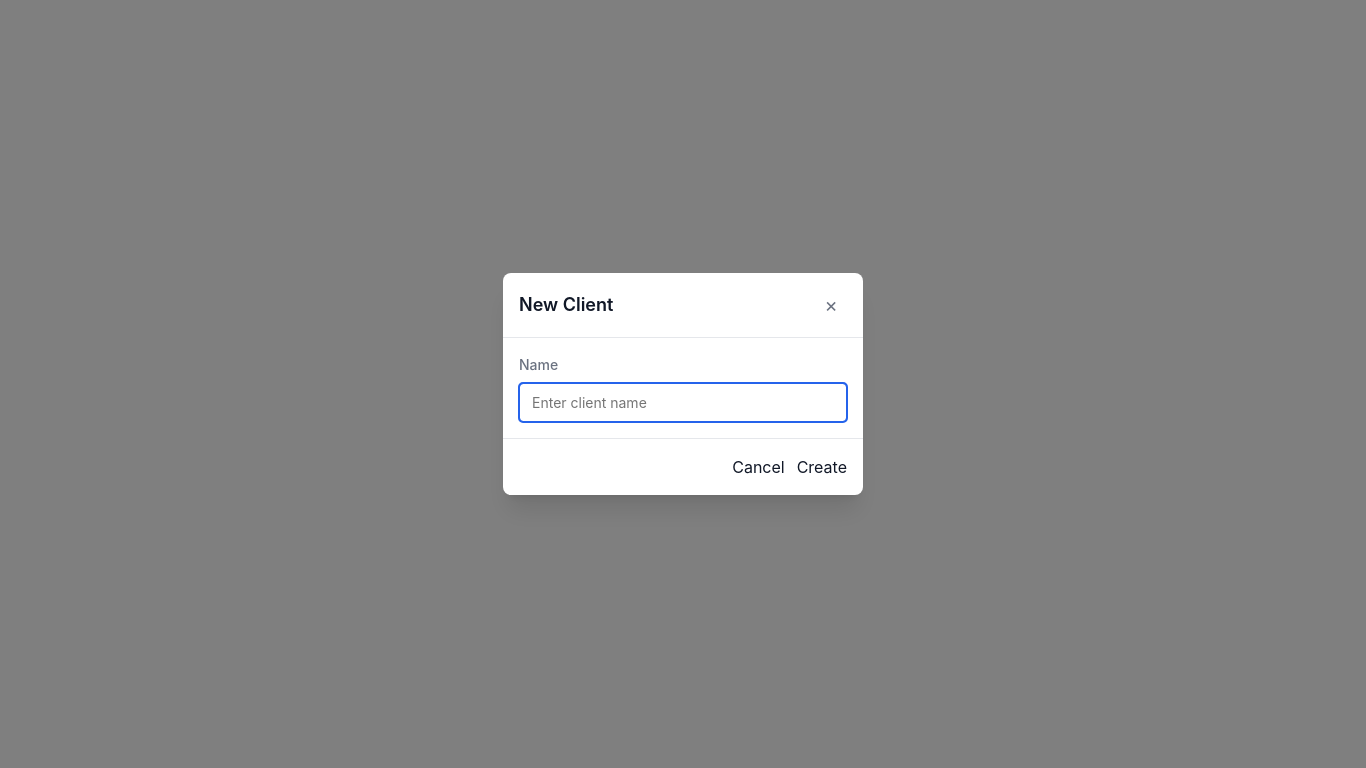
Scenario: CreateClientModal › shows "Creating..." on the button during submission
Type "Acme Corp" into the field with test id "create-client-name-input" at (683, 402), box [519, 383, 847, 422]
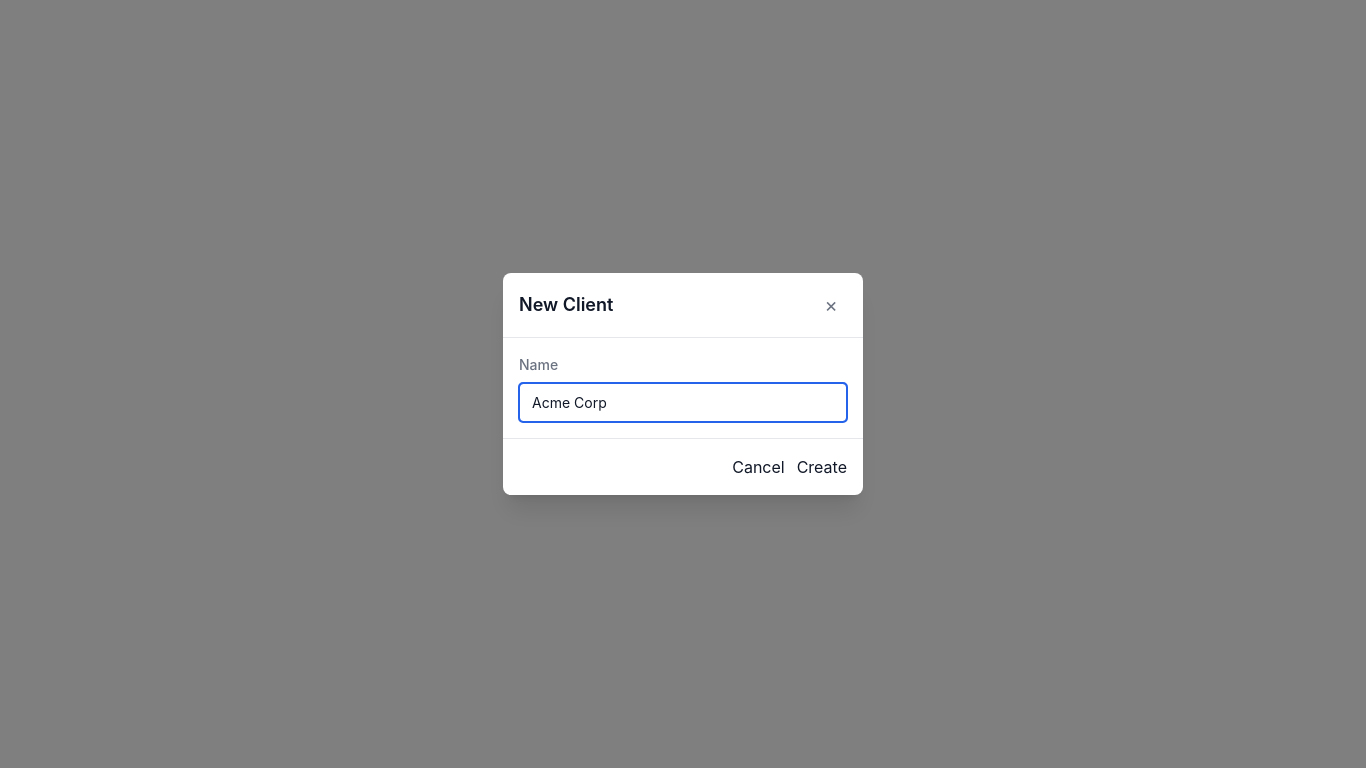
Submit the form with test id "create-client-form", box [519, 354, 847, 422]
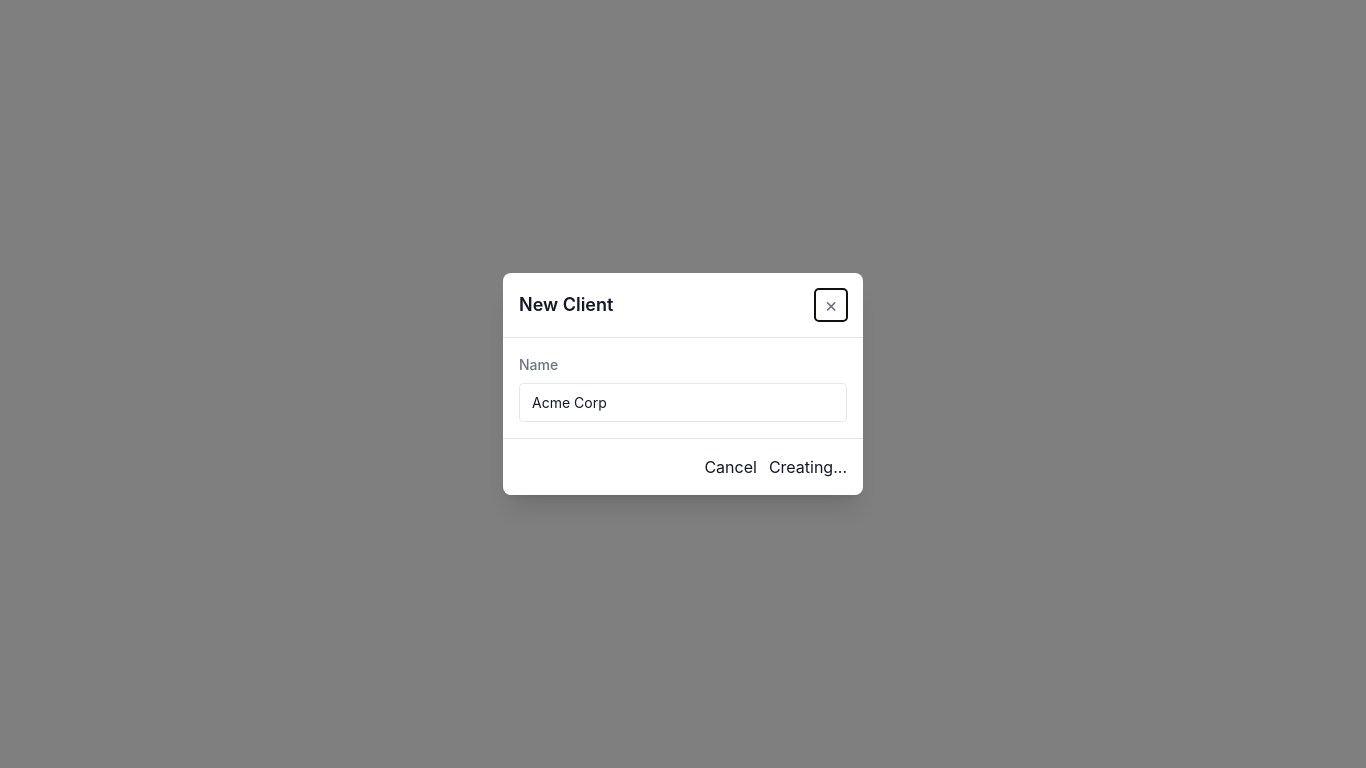
Result: the button "Creating..." is shown at [769, 455, 847, 479]
